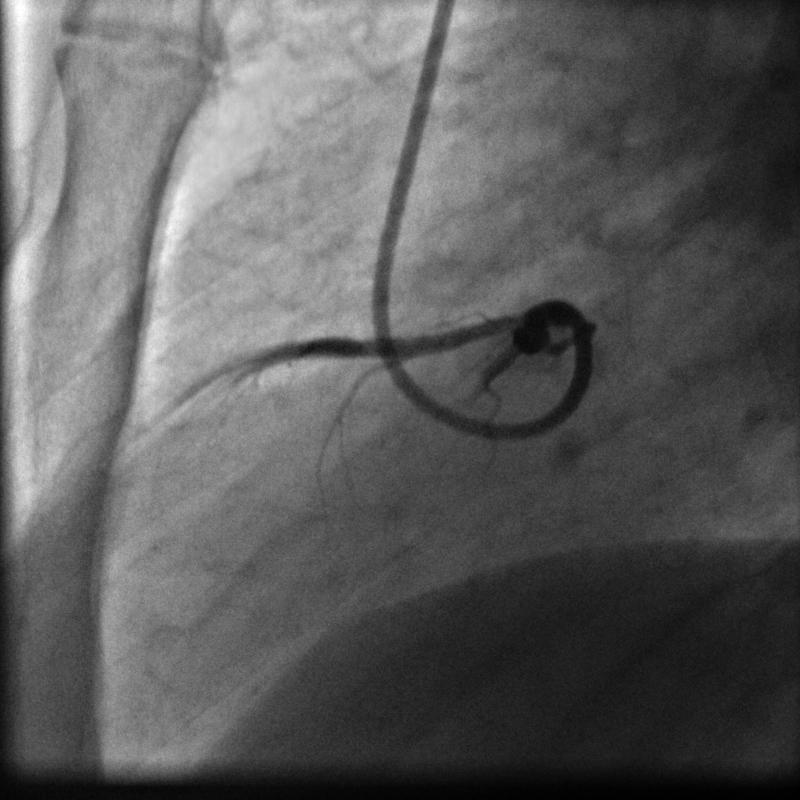Stenosis: (347, 331, 377, 361)
